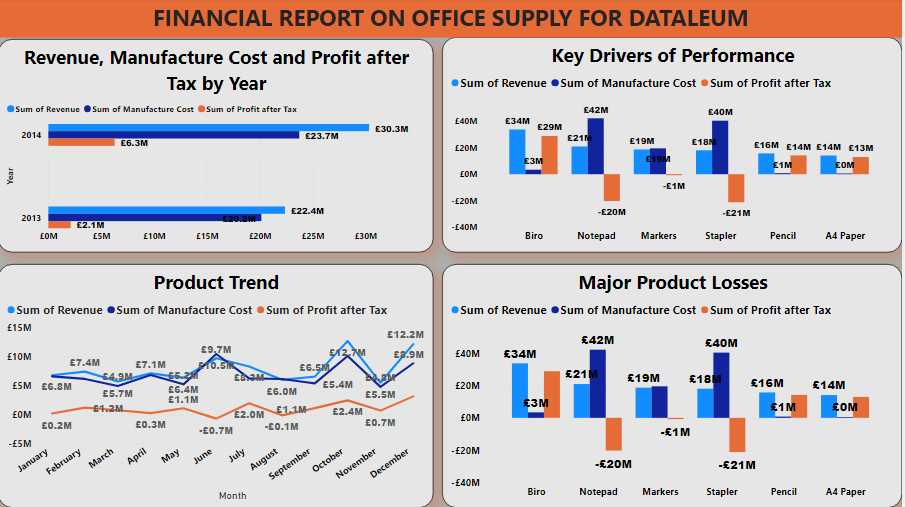

The page's visual inventory and layout, read from the dashboard file:
{"tool":"powerbi","page":{"name":"Page 2","canvas":[1280,720],"ordinal":1},"visuals":[{"type":"clusteredColumnChart","title":"Key Drivers of Performance","fields":{"Category":["financials3.Product"],"Y":["Sum(financials3.Revenue)","Sum(financials3.Manufacture Cost)","Sum(financials3.Profit after Tax)"]},"box":[628.6,55.6,651.4,305],"z":0},{"type":"clusteredBarChart","title":"Revenue, Manufacture Cost and Profit after Tax by Year","fields":{"Y":["Sum(financials3.Revenue)","Sum(financials3.Manufacture Cost)","Sum(financials3.Profit after Tax)"],"Category":["financials3.Date.Variation.Date Hierarchy.Year","financials3.Date.Variation.Date Hierarchy.Quarter"]},"box":[0,58.4,615.8,302.2],"z":1000},{"type":"textbox","box":[0,0,1280,56.4],"z":2000},{"type":"clusteredColumnChart","title":"Major Product Losses","fields":{"Category":["financials3.Product"],"Y":["Sum(financials3.Revenue)","Sum(financials3.Manufacture Cost)","Sum(financials3.Profit after Tax)"]},"box":[628.6,376.3,651.4,344.9],"z":3000},{"type":"lineChart","title":"Product Trend","fields":{"Category":["financials3.Date.Variation.Date Hierarchy.Month"],"Y":["Sum(financials3.Revenue)","Sum(financials3.Manufacture Cost)","Sum(financials3.Profit after Tax)"]},"box":[0,376.3,615.8,344.9],"z":4000}]}

Visuals, with their boxes in screenshot pixels (x1, y1, x2, y2), scaled from the page's 1280x720 canvas onto the 905x507 screenshot:
"Key Drivers of Performance" clusteredColumnChart: region(444, 39, 904, 254)
"Revenue, Manufacture Cost and Profit after Tax by Year" clusteredBarChart: region(0, 41, 435, 254)
textbox: region(0, 0, 904, 40)
"Major Product Losses" clusteredColumnChart: region(444, 265, 904, 506)
"Product Trend" lineChart: region(0, 265, 435, 506)
